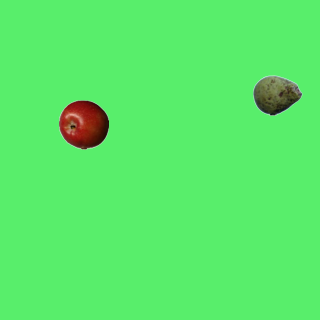Apple Braeburn: (58, 99, 108, 149)
Pear Stone: (252, 70, 302, 120)
